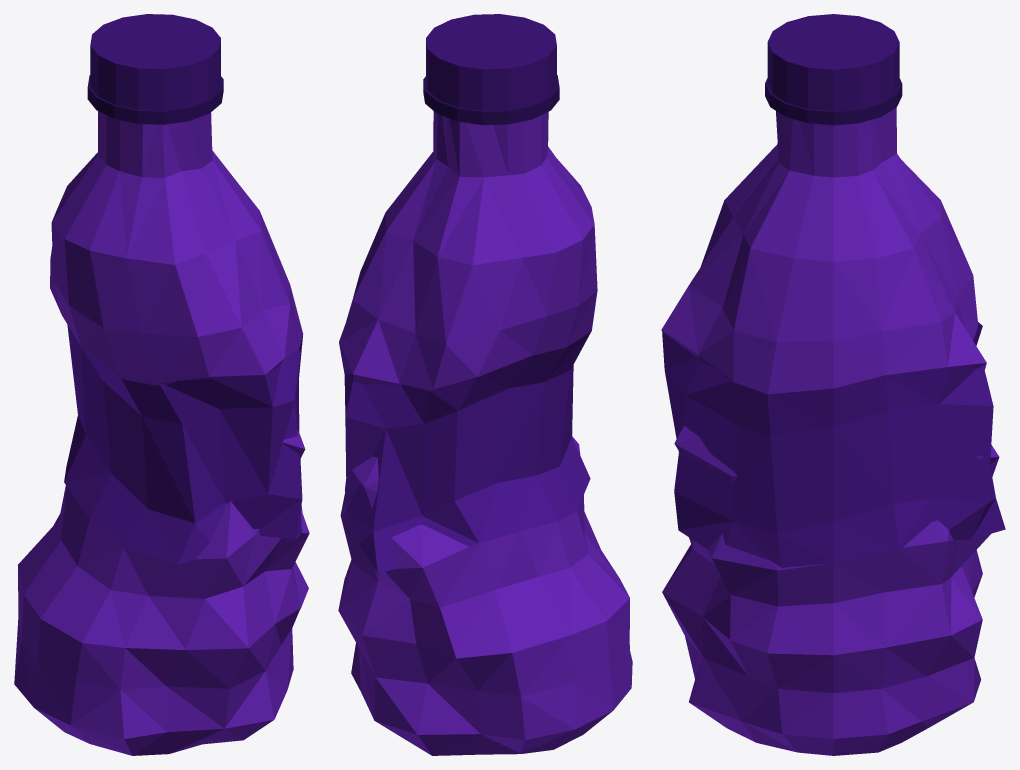
File: Plastic_CrushedBottle.fbx
3 views of the same model, side by side, from view 1: azimuth 30°, elevation 25°; view 2: azimuth 150°, elevation 25°; view 3: azimuth 270°, elevation 25° (orthographic).
Visible parts, largest first — view 1: Plastic_CrushedBottle; view 2: Plastic_CrushedBottle; view 3: Plastic_CrushedBottle.
Part boxes in pixels (x1,y1,x2,y2): Plastic_CrushedBottle: [14, 14, 309, 755]; Plastic_CrushedBottle: [338, 14, 632, 755]; Plastic_CrushedBottle: [661, 14, 1005, 755].
Size of the model in its own units: 41.32 by 105 by 48.97.
